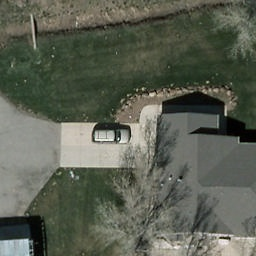car: (89, 128, 132, 142)
